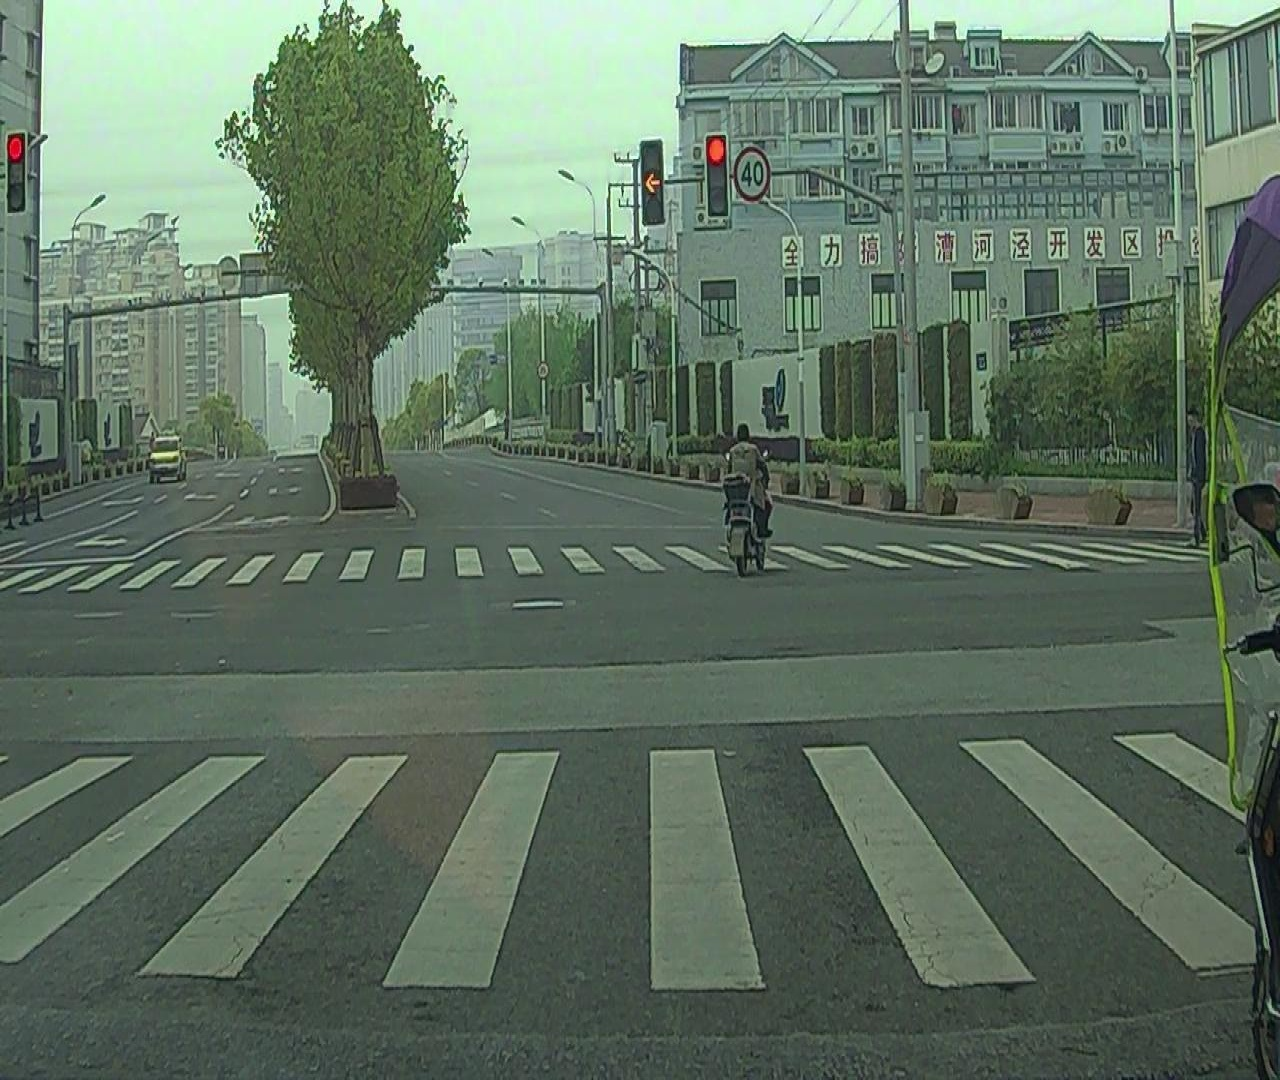red: (5, 130, 25, 210), (707, 138, 726, 219)
yellow: (639, 141, 663, 222)
